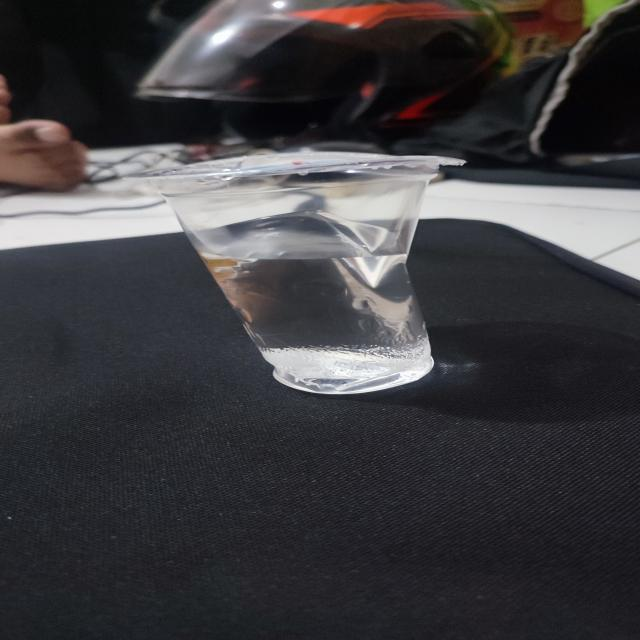air-gelas-rusak: (117, 145, 487, 404)
